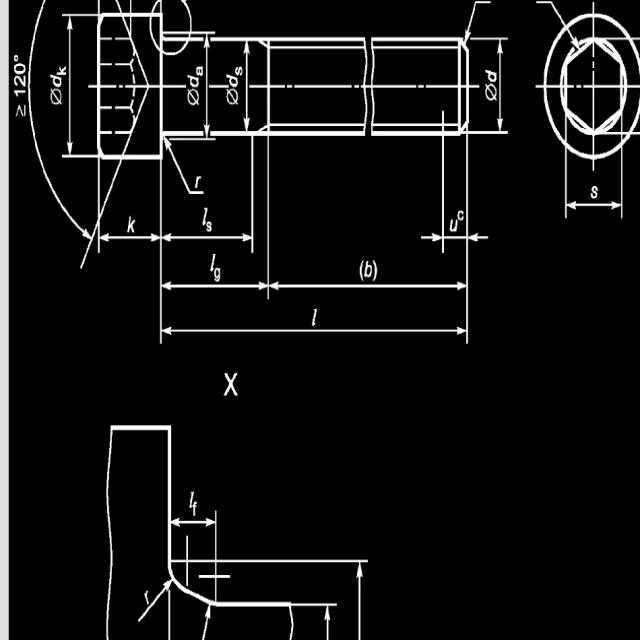marking_line: (269, 276, 468, 294), (163, 326, 467, 335), (533, 2, 580, 52), (130, 577, 173, 627), (164, 230, 251, 246), (464, 0, 492, 45), (494, 42, 507, 130), (161, 282, 264, 292), (203, 33, 212, 138), (355, 563, 366, 640), (569, 199, 624, 214), (243, 43, 251, 132), (197, 603, 216, 640), (103, 233, 156, 245), (172, 517, 215, 531), (469, 230, 497, 246), (323, 605, 333, 640), (421, 228, 442, 244)
numeric: (12, 65, 26, 98)
special_symbol: (162, 138, 194, 198), (47, 87, 64, 109), (225, 88, 242, 108), (484, 82, 499, 104), (187, 88, 201, 109), (12, 56, 21, 65)
